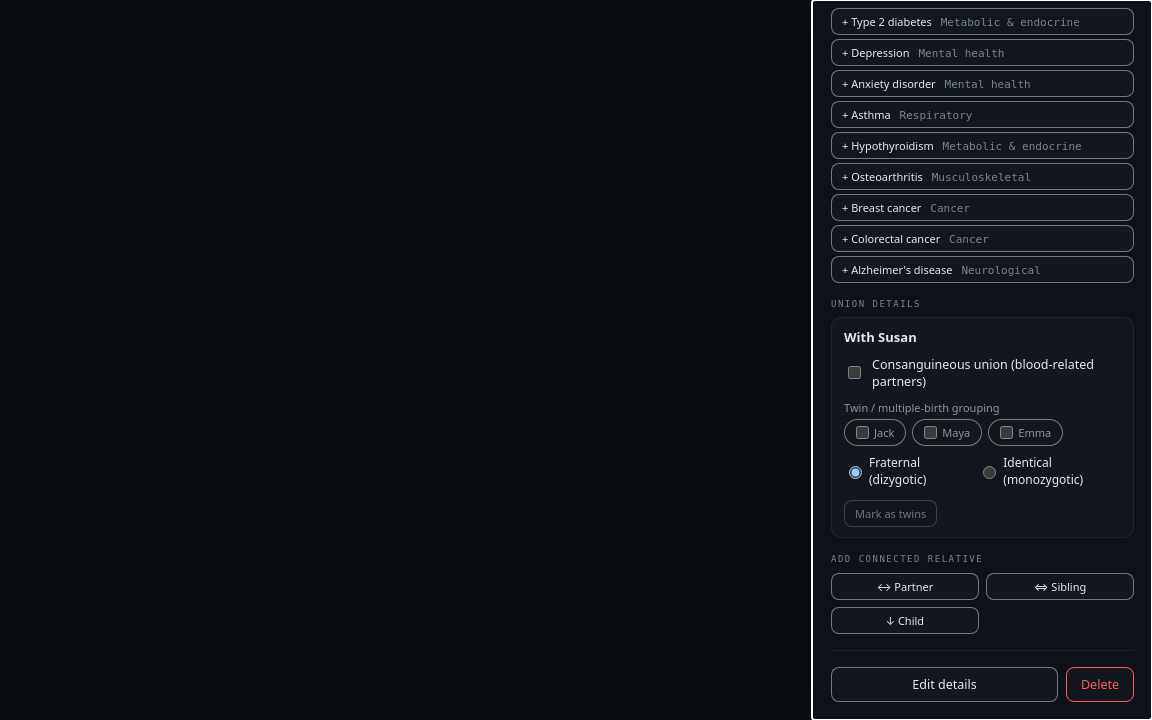
Scenario: PersonDrawer — Union details: mark as twins › disables "Mark as twins" until at least two children are selected
(page scrolled)
Expected: the button "Mark as twins" is disabled, [844,500,937,527]
Click the checkbox labelled "Jack" at (862, 432), box [856,426,869,439]
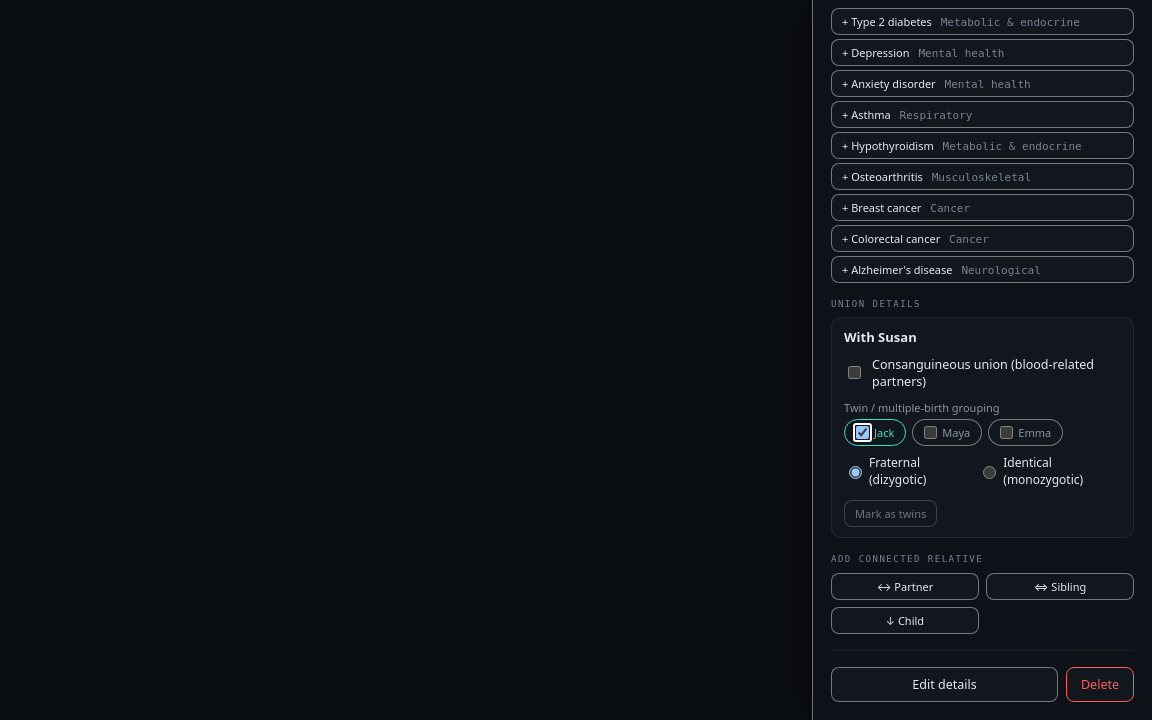
Expected: the button "Mark as twins" is disabled, [844,500,937,527]
Click the checkbox labelled "Maya" at (931, 432), box [924,426,937,439]
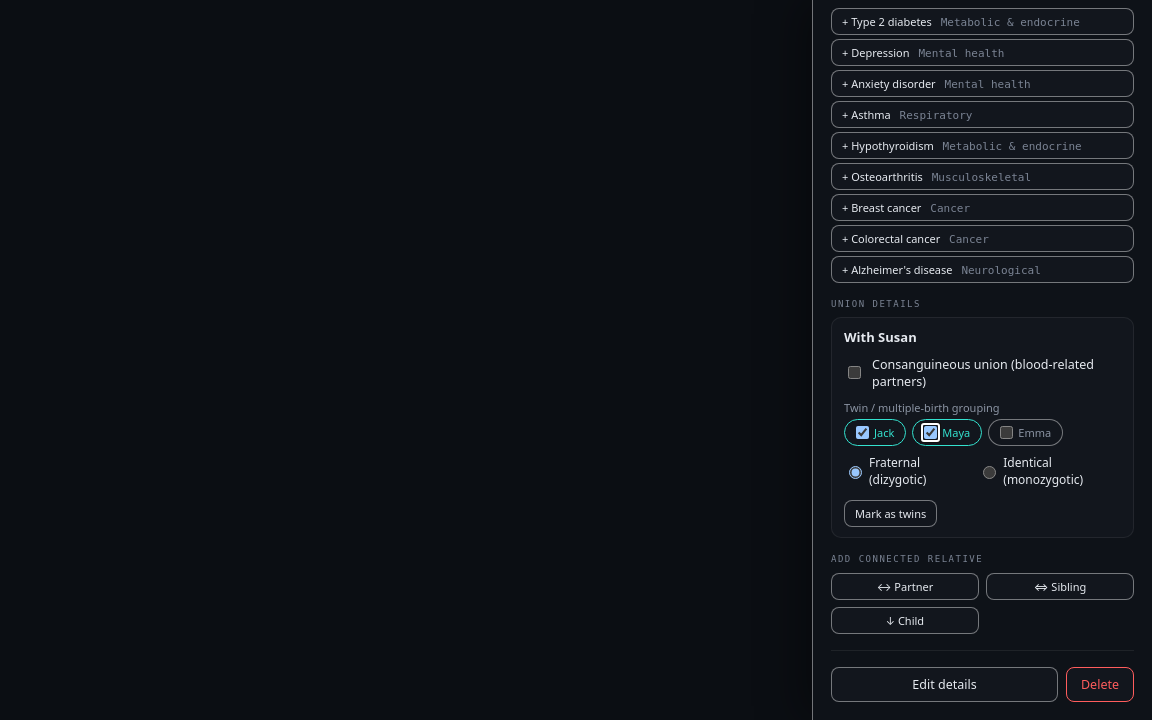
Expected: the button "Mark as twins" is enabled, [844,500,937,527]
Deselecting back down to one re-disables it.
Click the checkbox labelled "Maya" at (931, 432), box [924,426,937,439]
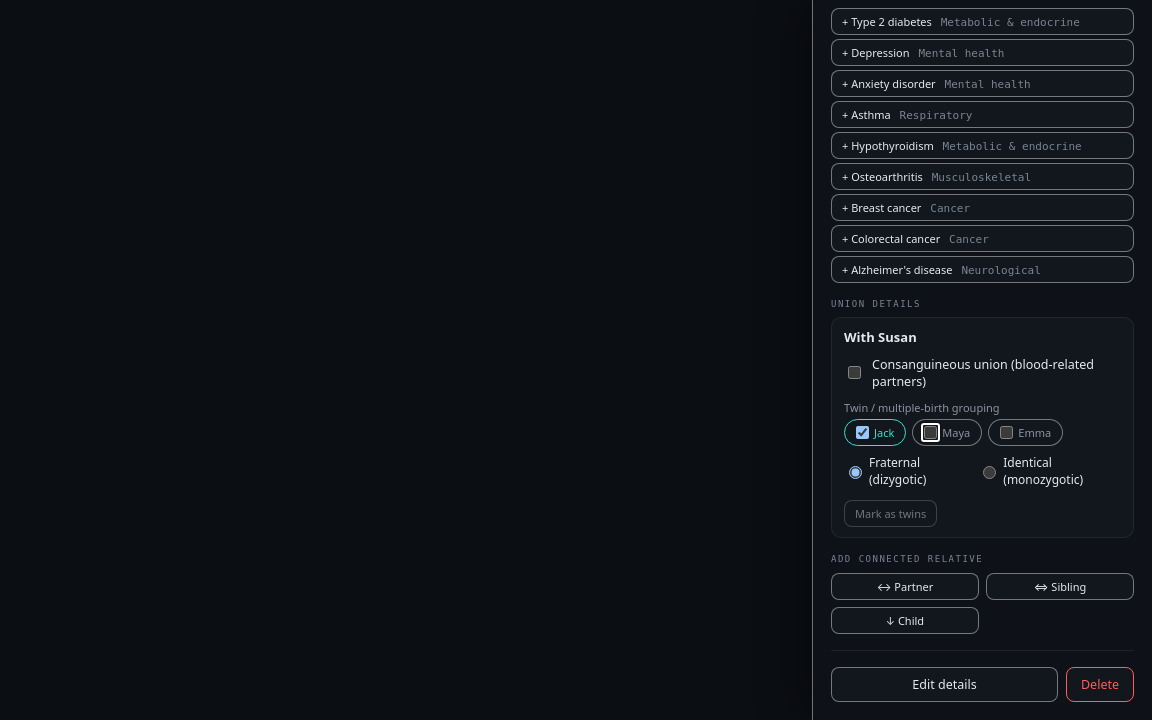
Expected: the button "Mark as twins" is disabled, [844,500,937,527]
